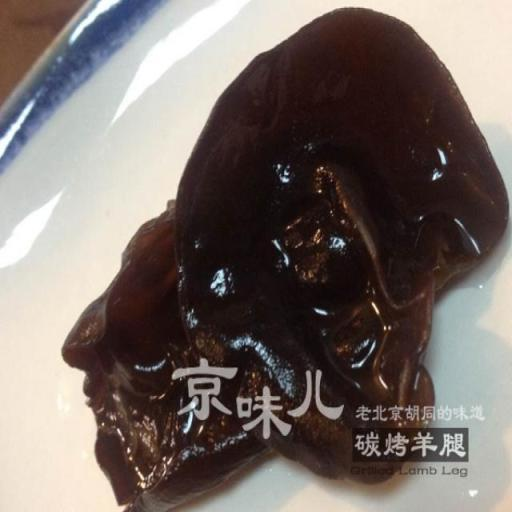mushroom: (63, 6, 510, 512)
